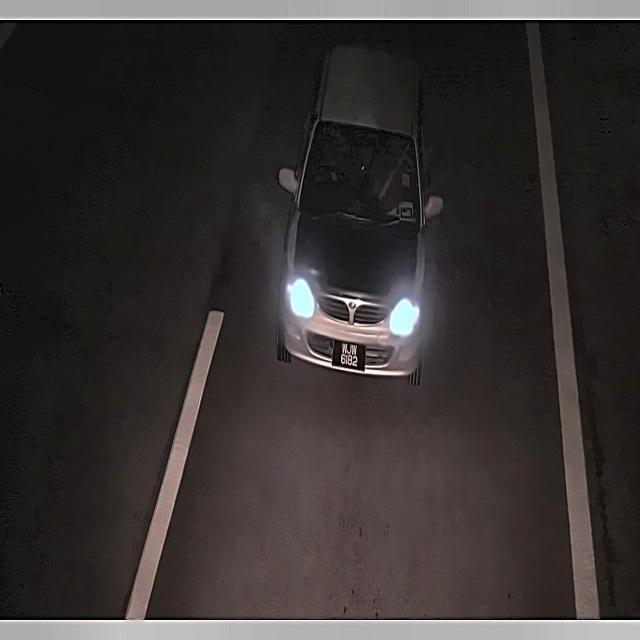car: (328, 334, 374, 374)
